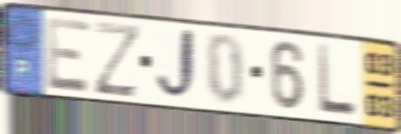0: (205, 32, 247, 108)
6: (269, 39, 307, 112)
E: (44, 14, 93, 95)
J: (152, 26, 198, 105)
L: (316, 41, 359, 119)
Z: (92, 19, 143, 100)
